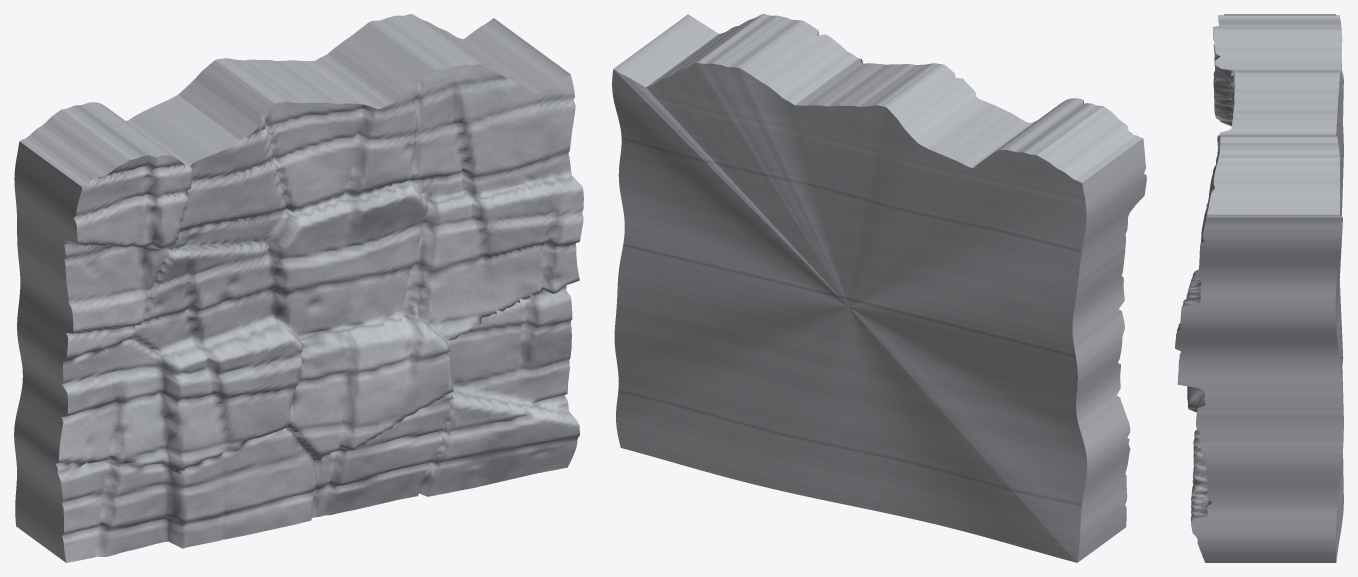
The model's file is quarry-grey-limestone-pilot.glb.
3 renders of one model, left to right at view 1: azimuth 30°, elevation 25°; view 2: azimuth 150°, elevation 25°; view 3: azimuth 270°, elevation 25°, orthographic. The views are drawn at different scales.
Parts seen in each view (by area): view 1: Rock_LOD0; view 2: Rock_LOD0; view 3: Rock_LOD0.
Part boxes in pixels (bbox=[...]): Rock_LOD0: bbox=[14, 14, 583, 562]; Rock_LOD0: bbox=[612, 14, 1146, 562]; Rock_LOD0: bbox=[1175, 14, 1343, 562].
Size of what is drawn, in the model's own units: 12.07 by 10.02 by 4.1.
1 material, 1 textured.
